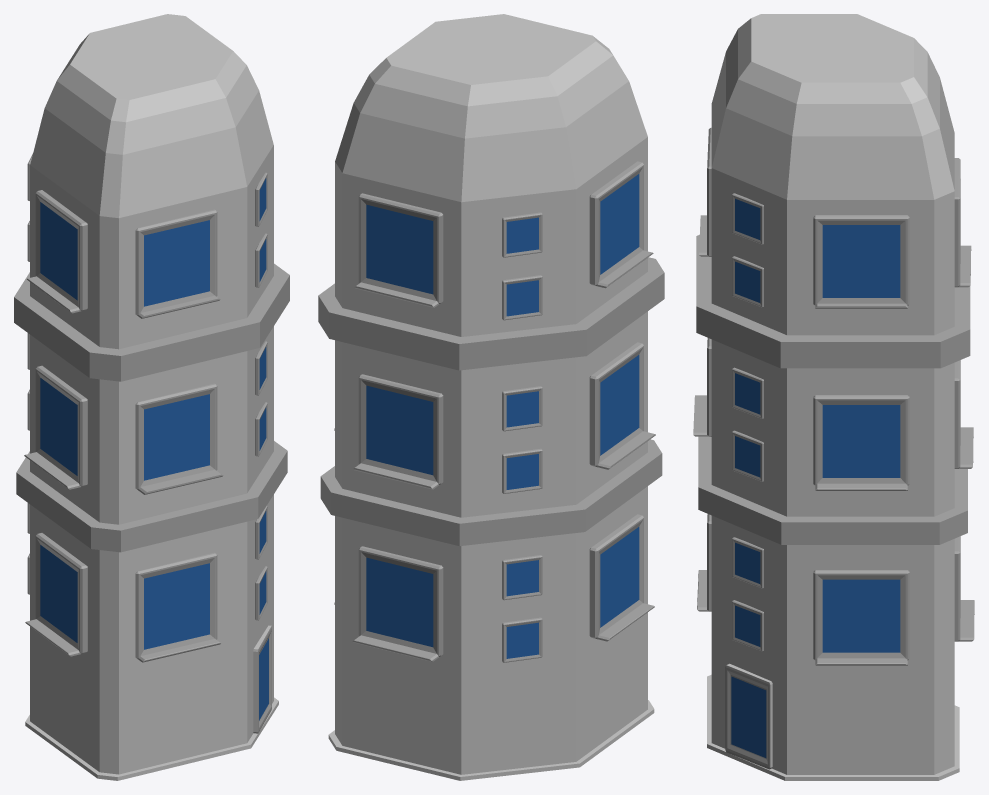
Rendered from WHITE SMALL TOWER.001_COLOR.012.glb.
3 views of the same model, side by side, from view 1: azimuth 30°, elevation 25°; view 2: azimuth 150°, elevation 25°; view 3: azimuth 270°, elevation 25° (orthographic). The views are drawn at different scales.
Visible parts, largest first — view 1: WHITE SMALL TOWER.001_COLOR.012_0; view 2: WHITE SMALL TOWER.001_COLOR.012_0; view 3: WHITE SMALL TOWER.001_COLOR.012_0.
Part boxes in pixels (box(x1,y1,x2,y2)): WHITE SMALL TOWER.001_COLOR.012_0: box(14, 14, 289, 780); WHITE SMALL TOWER.001_COLOR.012_0: box(318, 14, 664, 780); WHITE SMALL TOWER.001_COLOR.012_0: box(693, 14, 974, 780).
Bounding box in the file's own units: 1.33 × 3.5 × 1.32.
Materials: 1 (1 with a texture image).
